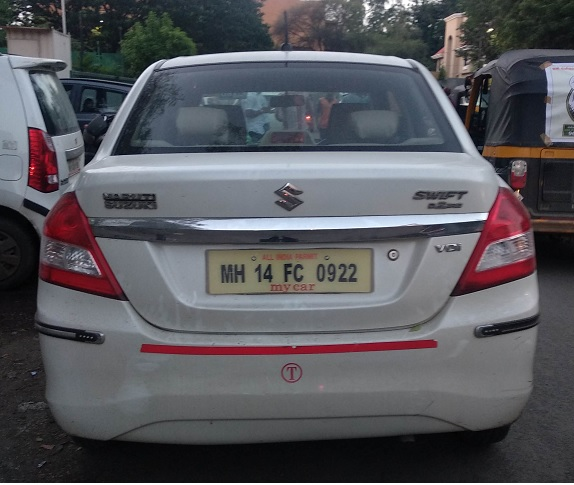licenseplate: (203, 247, 385, 296)
